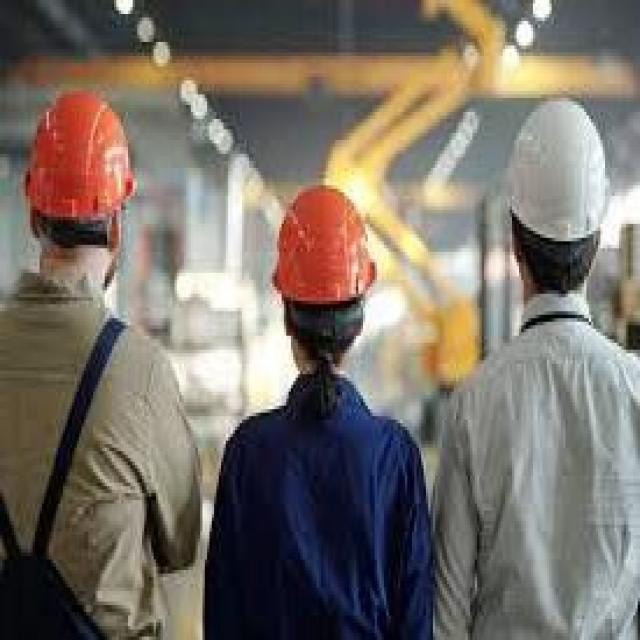Safety-Helmet: (9, 84, 142, 241), (498, 91, 619, 252), (263, 178, 382, 318)
